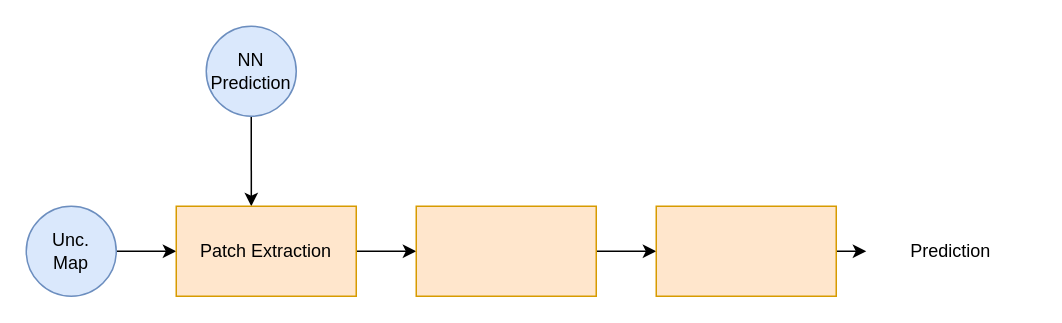
This 1062x323 diagram has some shape labels left out. Here are the shapes that lost their labels. From the top down, the centre of each, then its label:
At point (505, 250): "Feature Computation".
At point (745, 250): "Classification".
